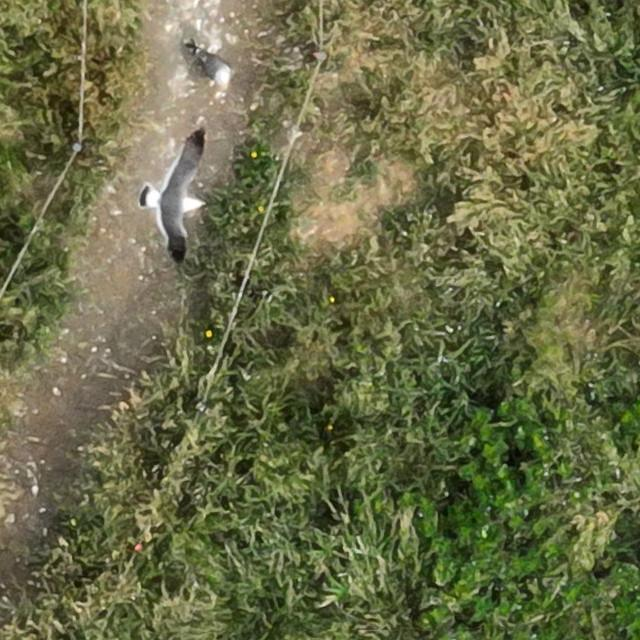F: (148, 158, 200, 242)
umineko: (201, 52, 230, 82)
